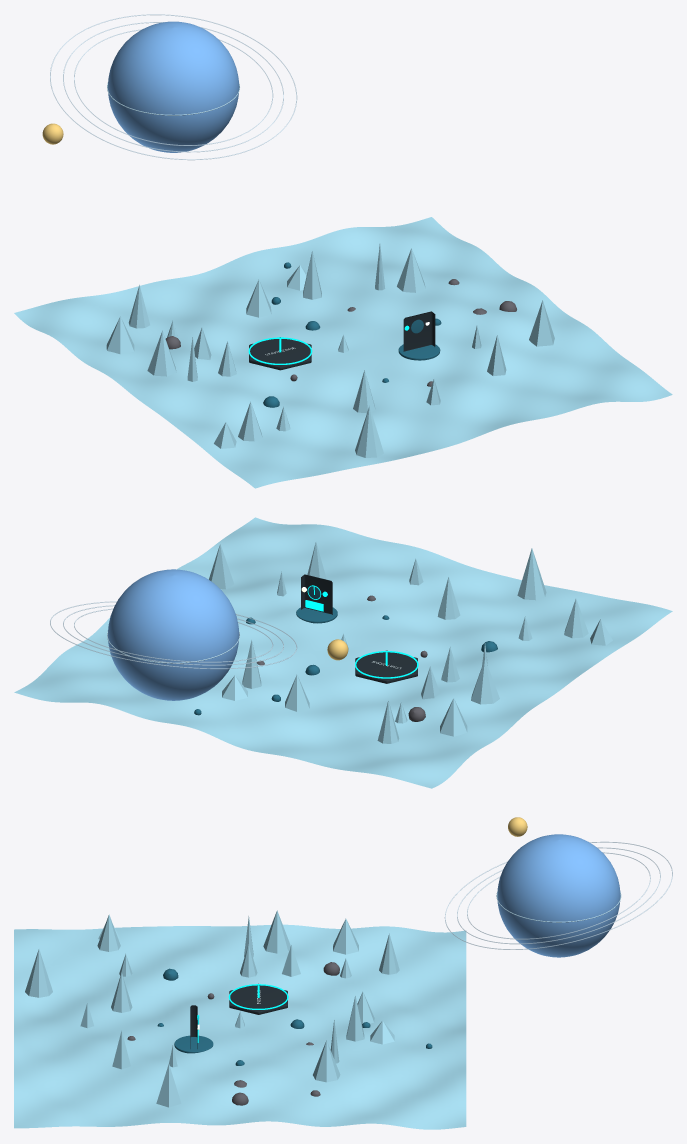
3 views of the same model, one above another, from view 1: azimuth 30°, elevation 25°; view 2: azimuth 150°, elevation 25°; view 3: azimuth 270°, elevation 25° (orthographic). The views are drawn at different scales.
Parts seen in each view (by area): view 1: SM_NEP_IceSurface, SM_NEP_BackgroundPlanet, SM_NEP_StartZone_DarkHexBase, SM_NEP_DeviceBody, SM_NEP_Ring_03, SM_NEP_IceToros_06_Spike_02, SM_NEP_Ring_02, SM_NEP_IceToros_06_Spike_04, SM_NEP_IceToros_02_Spike_02, SM_NEP_IceToros_01_Spike_01; view 2: SM_NEP_IceSurface, SM_NEP_BackgroundPlanet, SM_NEP_StartZone_DarkHexBase, SM_NEP_IceToros_06_Spike_02, SM_NEP_DeviceBody, SM_NEP_IceToros_06_Spike_04, SM_NEP_IceToros_05_Spike_01, SM_NEP_Ring_03, SM_NEP_IceToros_01_Spike_01, SM_NEP_IceToros_04_Spike_01, SM_NEP_IceToros_09_Spike_01, SM_NEP_Ring_02 (+6 smaller); view 3: SM_NEP_IceSurface, SM_NEP_BackgroundPlanet, SM_NEP_StartZone_DarkHexBase, SM_NEP_IceToros_06_Spike_02, SM_NEP_IceToros_06_Spike_04, SM_NEP_IceToros_02_Spike_02, SM_NEP_Ring_03, SM_NEP_IceToros_01_Spike_01, SM_NEP_Ring_02, SM_NEP_IceToros_05_Spike_01, SM_NEP_Device_BasePad, SM_NEP_IceToros_09_Spike_01 (+4 smaller).
Boxes of the visible parts, left/top/right/bottom form: SM_NEP_IceSurface: left=14, top=217, right=672, bottom=488; SM_NEP_BackgroundPlanet: left=107, top=21, right=239, bottom=152; SM_NEP_StartZone_DarkHexBase: left=249, top=337, right=311, bottom=370; SM_NEP_DeviceBody: left=403, top=311, right=435, bottom=351; SM_NEP_Ring_03: left=50, top=14, right=297, bottom=160; SM_NEP_IceToros_06_Spike_02: left=355, top=406, right=383, bottom=457; SM_NEP_Ring_02: left=63, top=22, right=283, bottom=152; SM_NEP_IceToros_06_Spike_04: left=147, top=330, right=176, bottom=376; SM_NEP_IceToros_02_Spike_02: left=397, top=248, right=425, bottom=292; SM_NEP_IceToros_01_Spike_01: left=529, top=300, right=554, bottom=346; SM_NEP_IceSurface: left=14, top=517, right=672, bottom=788; SM_NEP_BackgroundPlanet: left=107, top=569, right=239, bottom=700; SM_NEP_StartZone_DarkHexBase: left=355, top=650, right=417, bottom=683; SM_NEP_IceToros_06_Spike_02: left=517, top=548, right=546, bottom=600; SM_NEP_DeviceBody: left=301, top=574, right=332, bottom=614; SM_NEP_IceToros_06_Spike_04: left=471, top=659, right=499, bottom=704; SM_NEP_IceToros_05_Spike_01: left=440, top=698, right=467, bottom=736; SM_NEP_Ring_03: left=50, top=601, right=297, bottom=669; SM_NEP_IceToros_01_Spike_01: left=209, top=544, right=233, bottom=589; SM_NEP_IceToros_04_Spike_01: left=285, top=674, right=309, bottom=711; SM_NEP_IceToros_09_Spike_01: left=564, top=598, right=588, bottom=638; SM_NEP_Ring_02: left=63, top=605, right=283, bottom=665; SM_NEP_IceSurface: left=14, top=924, right=466, bottom=1129; SM_NEP_BackgroundPlanet: left=497, top=834, right=620, bottom=957; SM_NEP_StartZone_DarkHexBase: left=229, top=983, right=287, bottom=1014; SM_NEP_IceToros_06_Spike_02: left=25, top=949, right=52, bottom=997; SM_NEP_IceToros_06_Spike_04: left=263, top=910, right=290, bottom=953; SM_NEP_IceToros_02_Spike_02: left=313, top=1040, right=340, bottom=1082; SM_NEP_Ring_03: left=444, top=841, right=672, bottom=949; SM_NEP_IceToros_01_Spike_01: left=156, top=1064, right=181, bottom=1107; SM_NEP_Ring_02: left=457, top=847, right=660, bottom=944; SM_NEP_IceToros_05_Spike_01: left=333, top=918, right=358, bottom=954; SM_NEP_Device_BasePad: left=174, top=1035, right=213, bottom=1053; SM_NEP_IceToros_09_Spike_01: left=97, top=914, right=120, bottom=951.
Size of the model in its own units: 2200 by 1048 by 3205.
